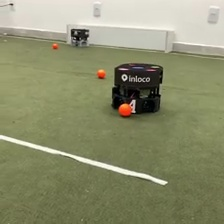ball: (117, 100, 133, 117), (96, 68, 107, 78), (51, 41, 59, 49)
goal: (65, 22, 175, 55)
robot: (109, 60, 165, 114), (69, 27, 90, 48)
